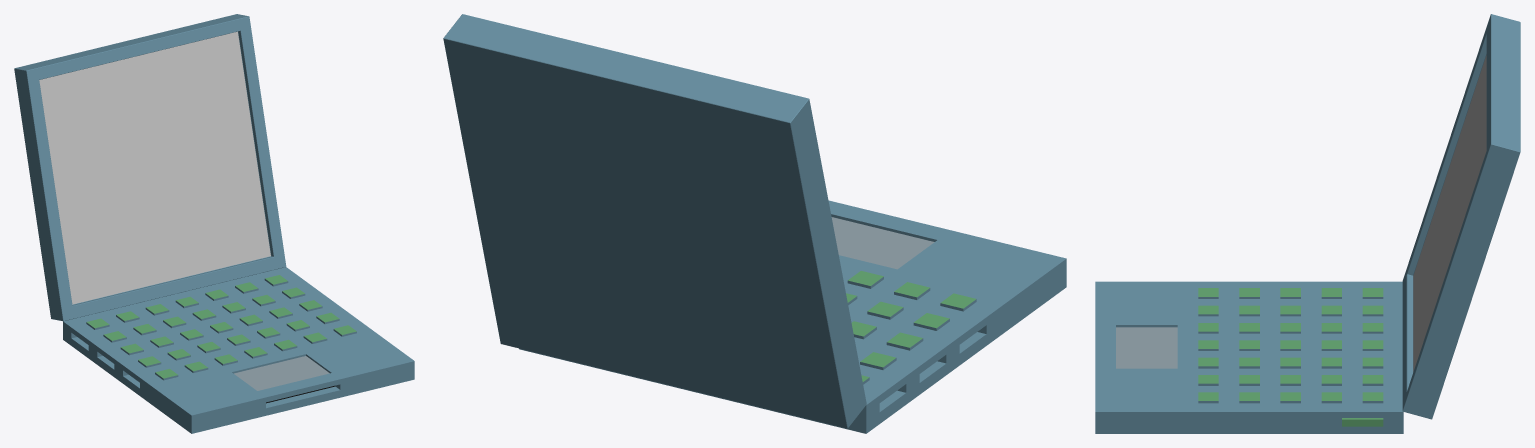
3 views of the same model, side by side, from view 1: azimuth 30°, elevation 25°; view 2: azimuth 150°, elevation 25°; view 3: azimuth 270°, elevation 25° (orthographic). The views are drawn at different scales.
Parts seen in each view (by area): view 1: Portable03; view 2: Portable03; view 3: Portable03.
Boxes of the visible parts, x1,y1,x2,y2 form: Portable03: (14, 14, 414, 433); Portable03: (443, 14, 1066, 433); Portable03: (1095, 14, 1520, 433).
Bounding box in the file's own units: 4.62 × 4.73 × 6.29.
